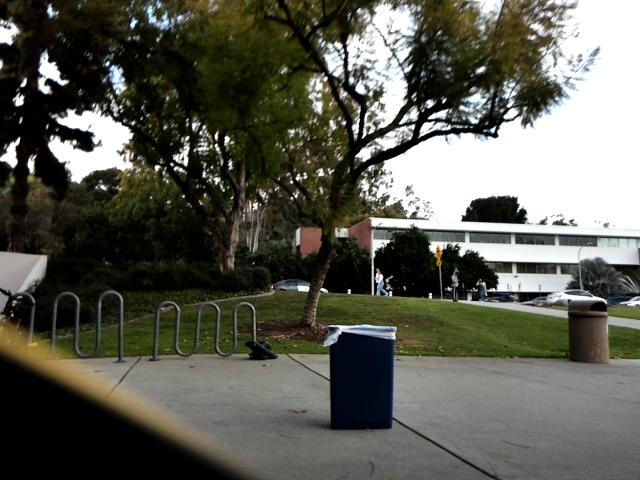trashcan_open: (323, 326, 398, 431)
